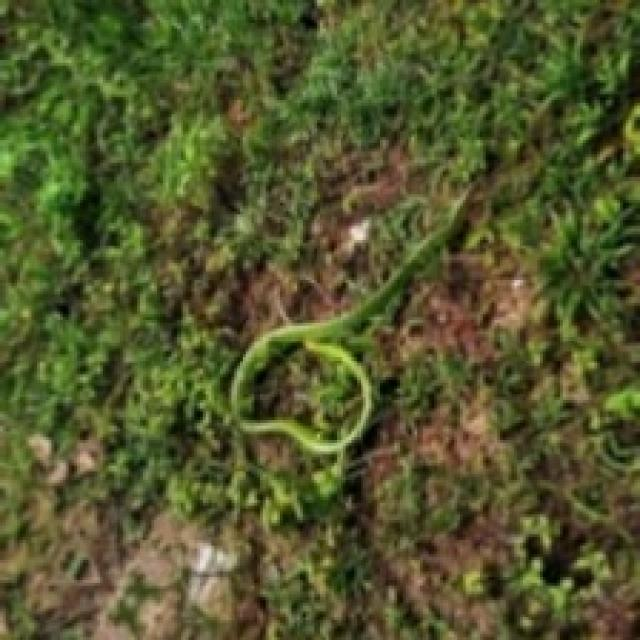red-tailed green ratsnake: (229, 186, 471, 494)
